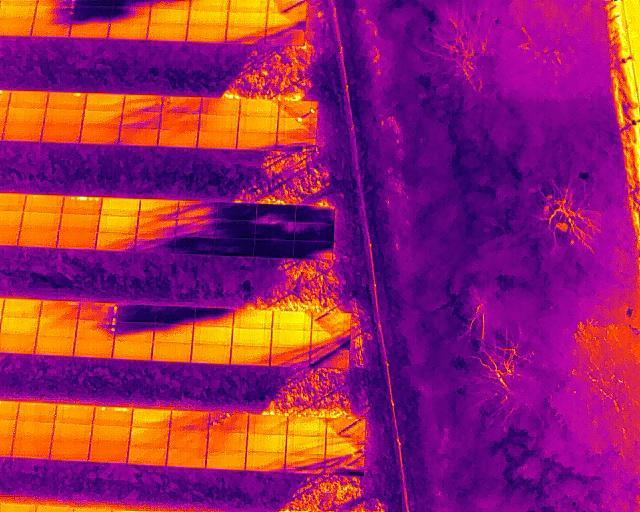Cell: (47, 92, 87, 109), (278, 116, 317, 133)
Cell-Multi: (94, 406, 133, 427), (63, 196, 101, 215), (278, 99, 318, 117)
No-Anomaly: (73, 337, 113, 358), (271, 309, 311, 330), (287, 416, 327, 436), (91, 426, 131, 446), (207, 433, 247, 453), (98, 215, 138, 235), (20, 211, 60, 231), (113, 340, 152, 360), (35, 335, 74, 355), (127, 446, 166, 466), (191, 345, 232, 364), (57, 404, 94, 425), (54, 424, 91, 445), (0, 332, 35, 354), (18, 402, 56, 422), (131, 428, 169, 448), (247, 435, 287, 454), (15, 421, 53, 441), (234, 308, 272, 328), (192, 326, 232, 345), (100, 197, 138, 217), (3, 122, 43, 141), (158, 128, 198, 147), (12, 439, 51, 458), (169, 430, 208, 449), (19, 229, 58, 248), (60, 214, 99, 233), (198, 129, 237, 148), (249, 416, 287, 435), (200, 113, 238, 132), (81, 125, 119, 144), (271, 328, 311, 346), (152, 342, 192, 360), (286, 436, 326, 454), (133, 409, 170, 428), (233, 328, 272, 346), (108, 23, 147, 41), (37, 318, 76, 336), (42, 124, 81, 142), (238, 131, 277, 149), (147, 25, 188, 42), (168, 450, 206, 468), (240, 100, 278, 118), (82, 108, 120, 126), (23, 196, 63, 213), (87, 93, 124, 111), (7, 106, 44, 124), (187, 26, 226, 43), (50, 444, 89, 461), (88, 445, 127, 462), (58, 233, 97, 250), (1, 300, 40, 317), (44, 108, 83, 125), (8, 91, 46, 108), (1, 317, 38, 334), (189, 10, 228, 26), (238, 116, 277, 132), (148, 10, 188, 25), (34, 22, 71, 38), (228, 11, 267, 26), (206, 454, 246, 468), (0, 21, 34, 37), (71, 24, 109, 38)
Shadowing: (310, 329, 350, 350), (171, 410, 210, 431), (325, 454, 364, 475), (285, 454, 325, 474), (176, 219, 216, 239), (293, 241, 333, 261), (232, 345, 271, 365), (271, 346, 310, 366), (194, 307, 234, 326), (154, 323, 194, 342), (138, 199, 178, 218), (160, 111, 200, 130), (119, 127, 159, 146), (277, 133, 317, 152), (135, 218, 177, 236), (327, 417, 366, 436), (326, 436, 365, 455), (265, 26, 304, 45), (294, 223, 333, 242), (40, 300, 79, 319), (211, 412, 248, 432), (245, 453, 285, 471), (255, 222, 295, 240), (79, 302, 119, 320), (115, 304, 155, 322), (155, 305, 195, 323), (215, 238, 255, 256), (134, 236, 174, 254), (114, 322, 154, 340), (178, 201, 218, 219), (256, 205, 296, 223), (161, 96, 203, 113), (309, 350, 348, 368), (226, 25, 265, 43), (77, 319, 116, 337), (121, 110, 162, 127), (254, 241, 294, 258), (311, 313, 351, 330), (214, 221, 256, 237), (296, 205, 333, 223), (218, 203, 256, 220), (201, 99, 241, 115), (174, 239, 214, 255), (109, 8, 150, 23), (267, 11, 305, 27), (124, 95, 162, 111), (96, 234, 134, 250), (35, 7, 73, 22), (73, 9, 109, 24)
